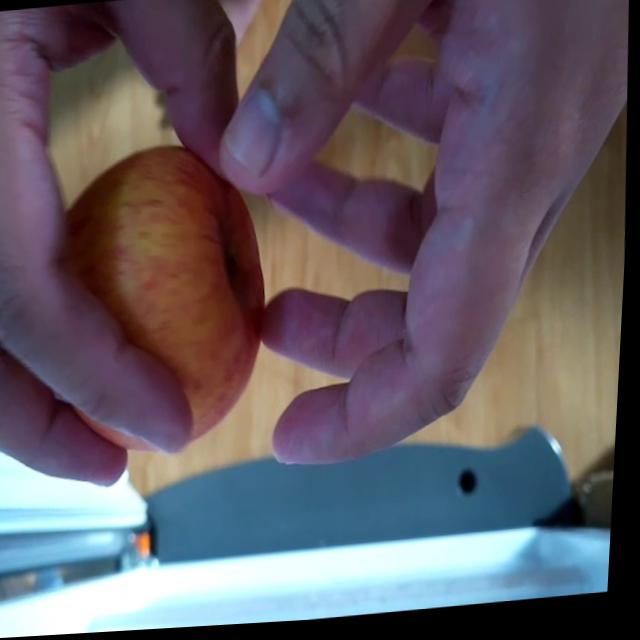apple: (65, 137, 288, 457)
